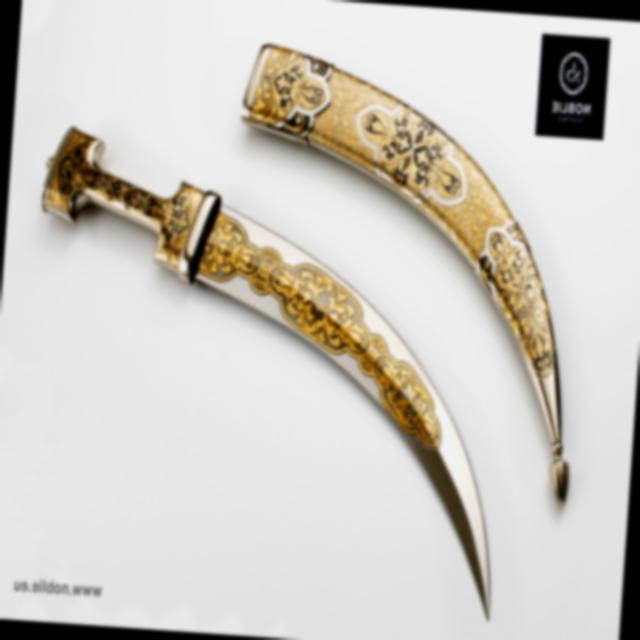short sword: (9, 95, 572, 626)
